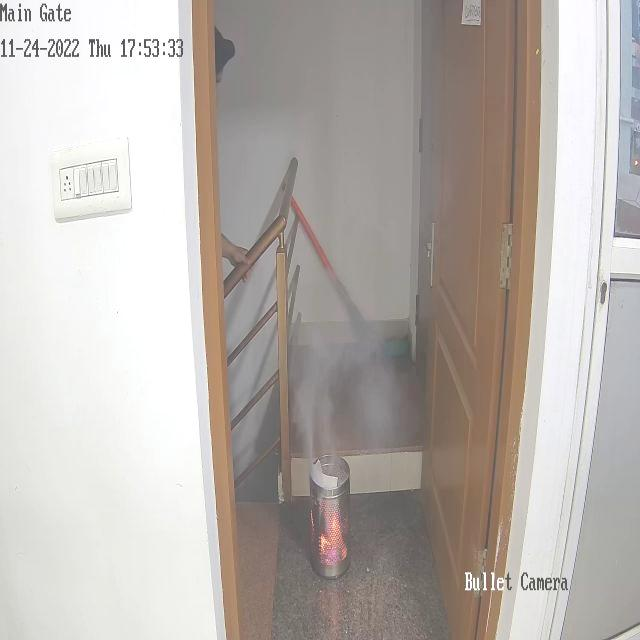fire: (316, 492, 351, 580)
smoke: (314, 100, 380, 195), (298, 333, 342, 453), (318, 178, 392, 248), (348, 342, 400, 436), (366, 247, 402, 319), (312, 283, 328, 331)
